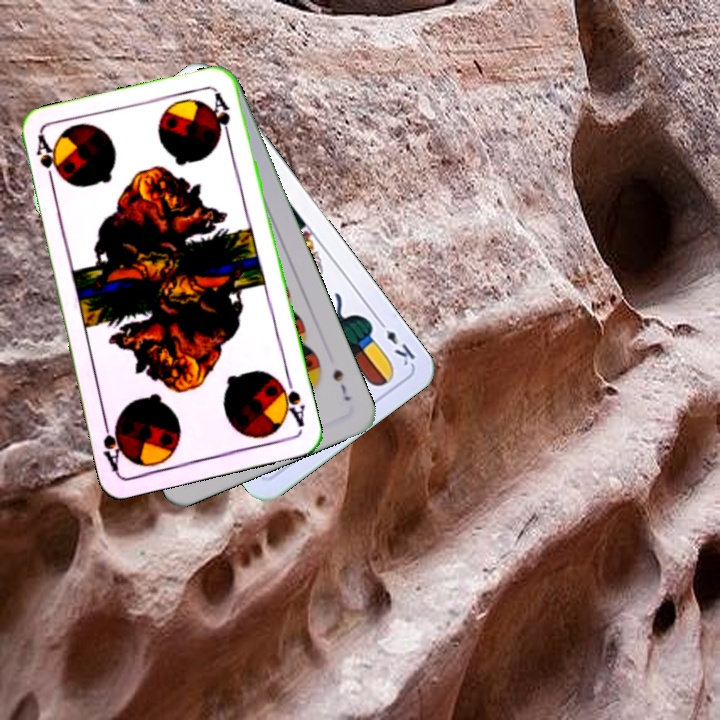EK: (373, 315, 418, 369)
S7: (329, 365, 353, 404)
SA: (273, 372, 308, 430), (32, 132, 62, 190)
